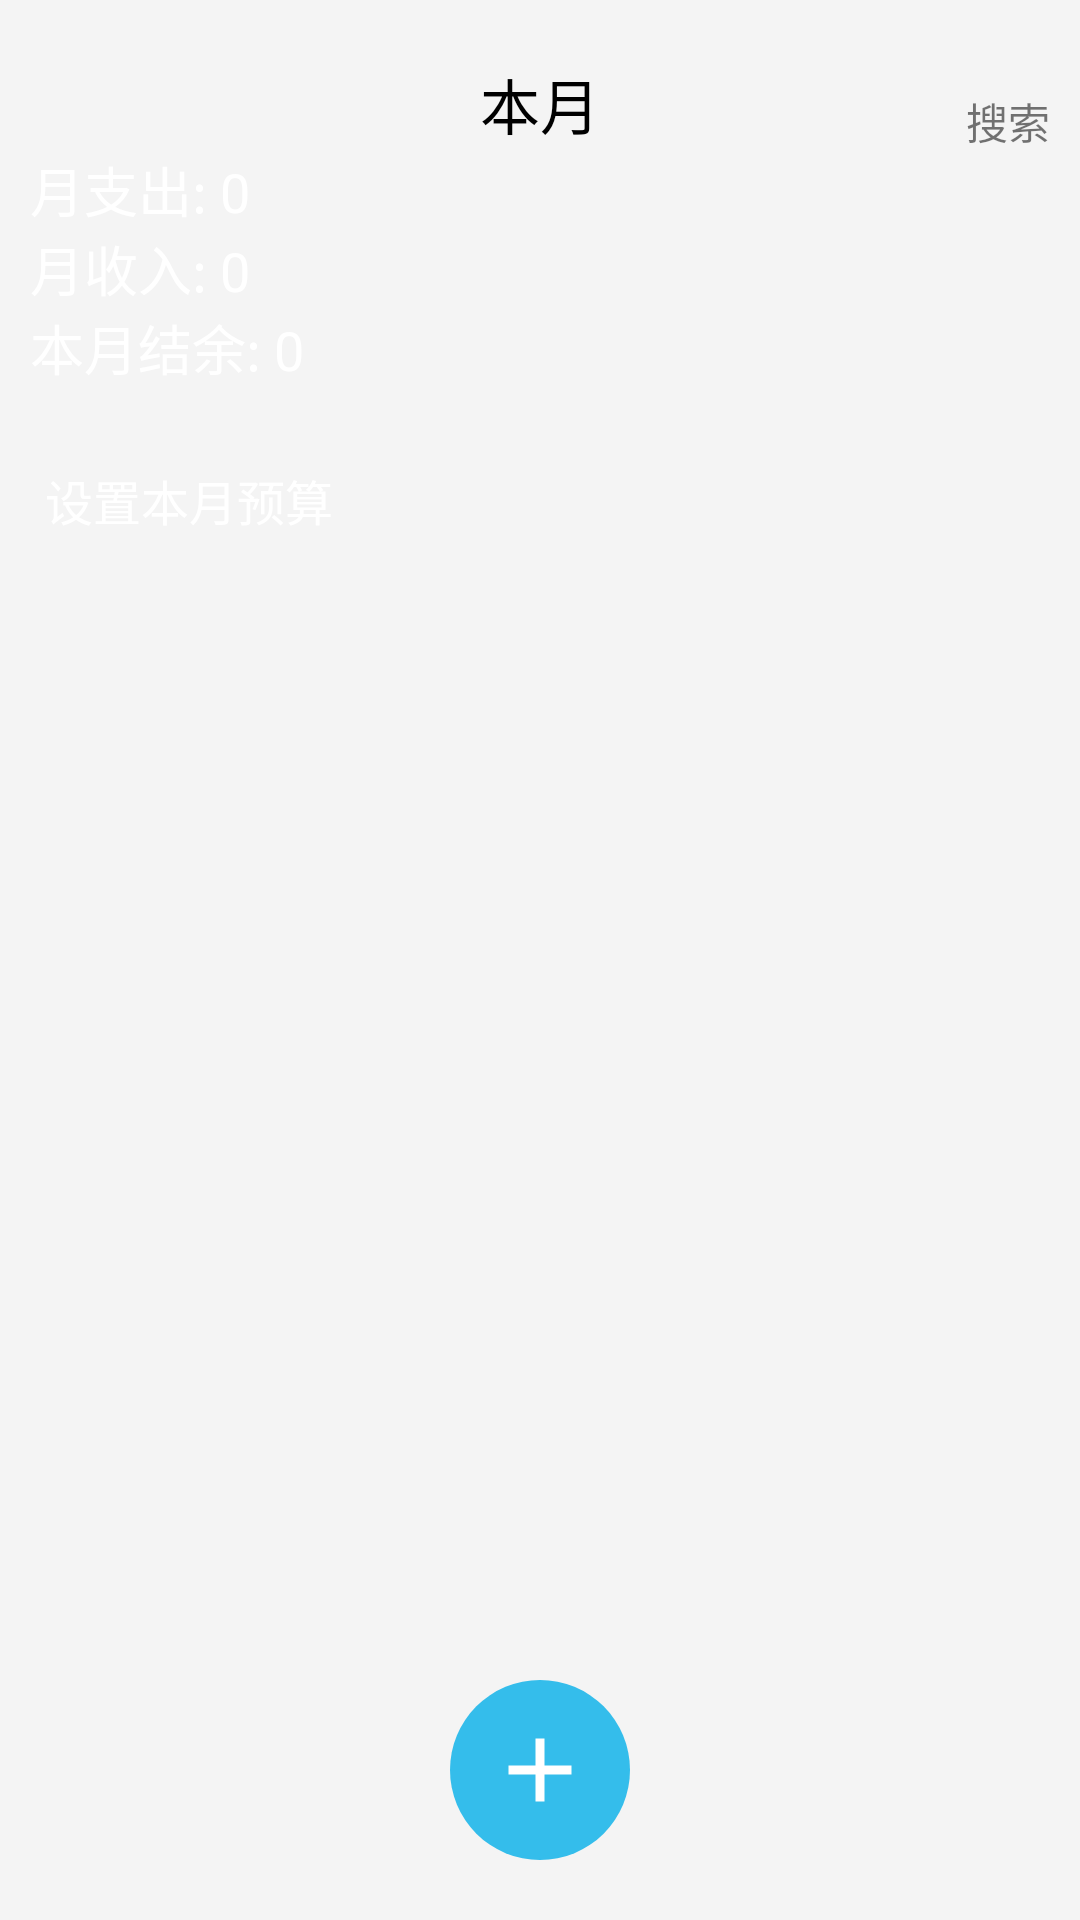

Icons on this 1080x1920 Android screen, each with its box as (x1, y1, x2, y2):
add: (450, 1680, 630, 1860)
